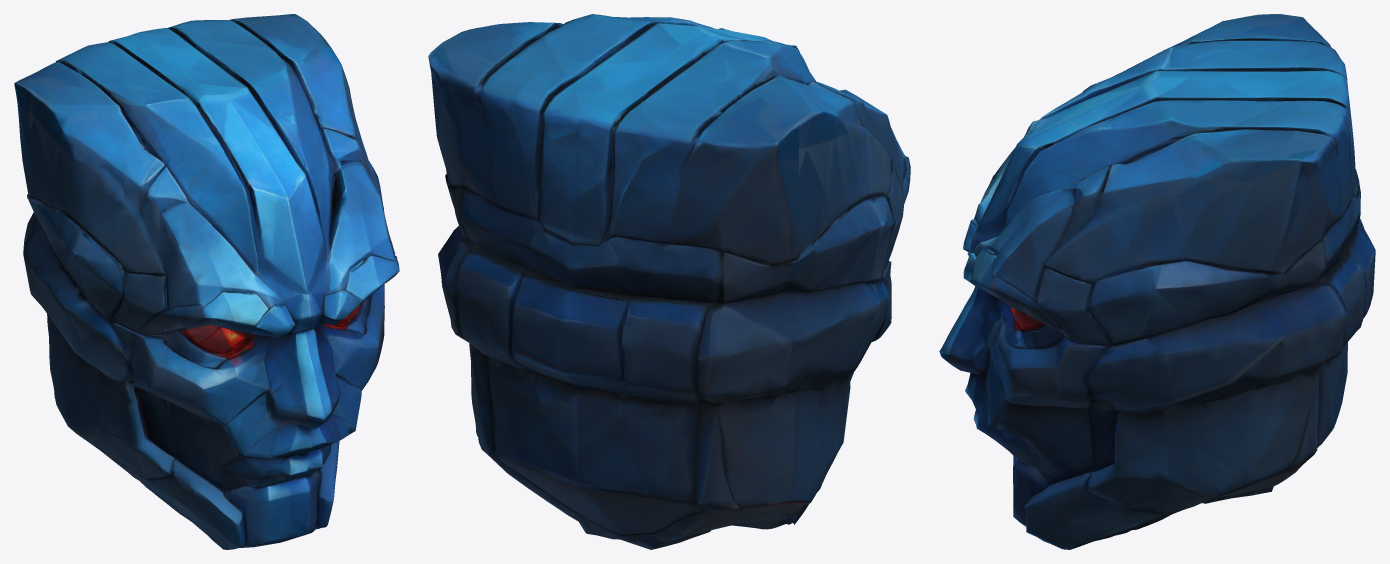
File: monster_34.glb
3 renders of one model, left to right at view 1: azimuth 30°, elevation 25°; view 2: azimuth 150°, elevation 25°; view 3: azimuth 270°, elevation 25°, orthographic. The views are drawn at different scales.
Visible parts, largest first — view 1: Guardian_0709181251_texture; view 2: Guardian_0709181251_texture; view 3: Guardian_0709181251_texture.
Boxes of the visible parts, bbox=[...] form: Guardian_0709181251_texture: bbox=[14, 14, 399, 549]; Guardian_0709181251_texture: bbox=[428, 14, 910, 549]; Guardian_0709181251_texture: bbox=[939, 14, 1375, 549].
Bounding box in the file's own units: 1.56 × 2 × 1.78.
1 material, 1 textured.
